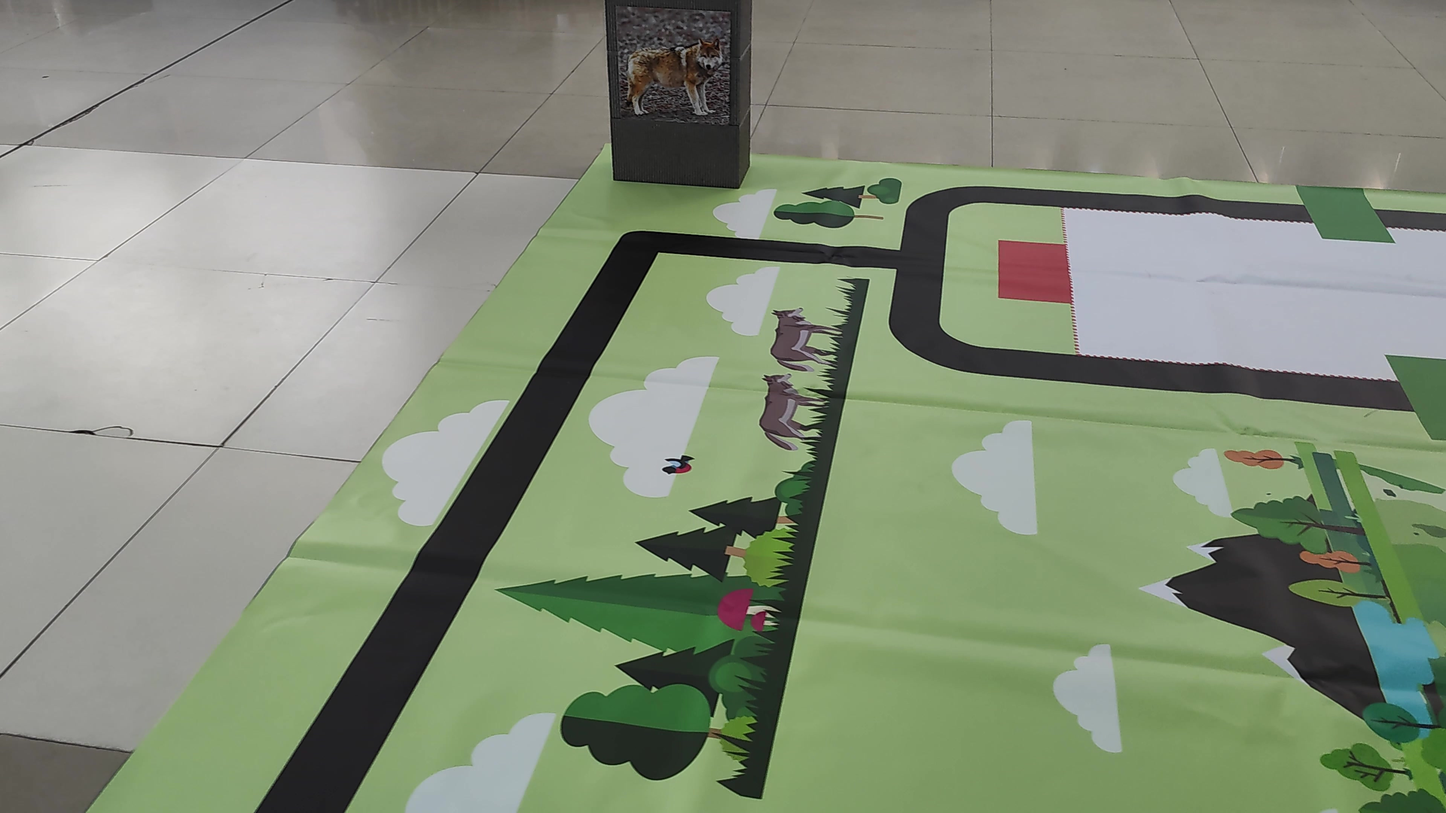wolf: (615, 14, 726, 125)
